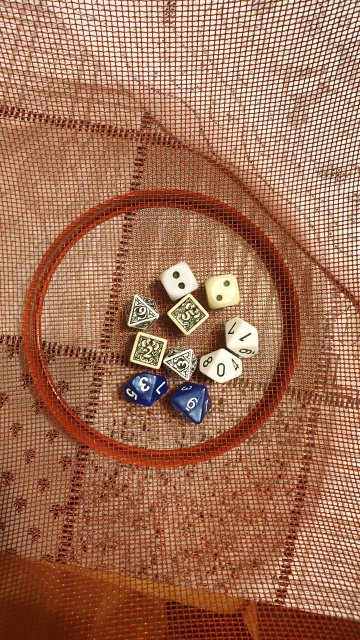d10-1: (221, 313, 263, 362)
d10-10: (197, 347, 244, 386)
d10-3: (117, 371, 167, 408)
d10-6: (168, 381, 216, 428)
d6-2: (202, 269, 242, 313), (157, 262, 201, 302)
d6p-2: (127, 329, 169, 372)
d6p-5: (166, 294, 211, 339)
d8p-3: (160, 344, 198, 385)
d8p-6: (119, 294, 160, 331)
